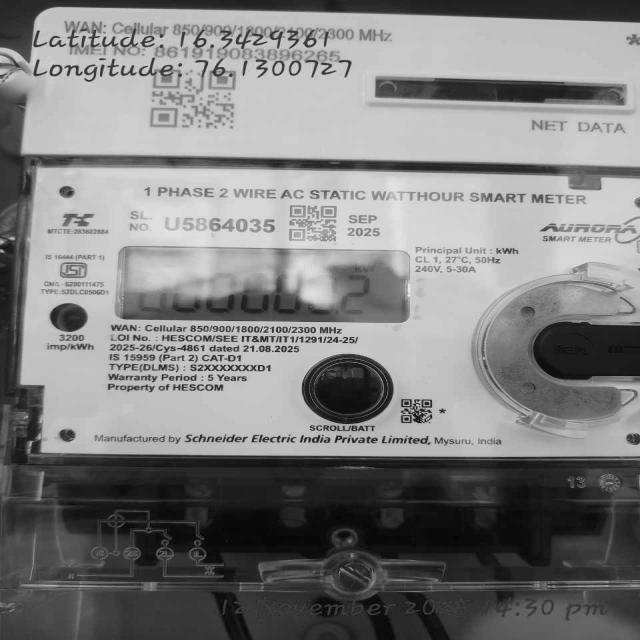meter: (22, 8, 640, 456)
